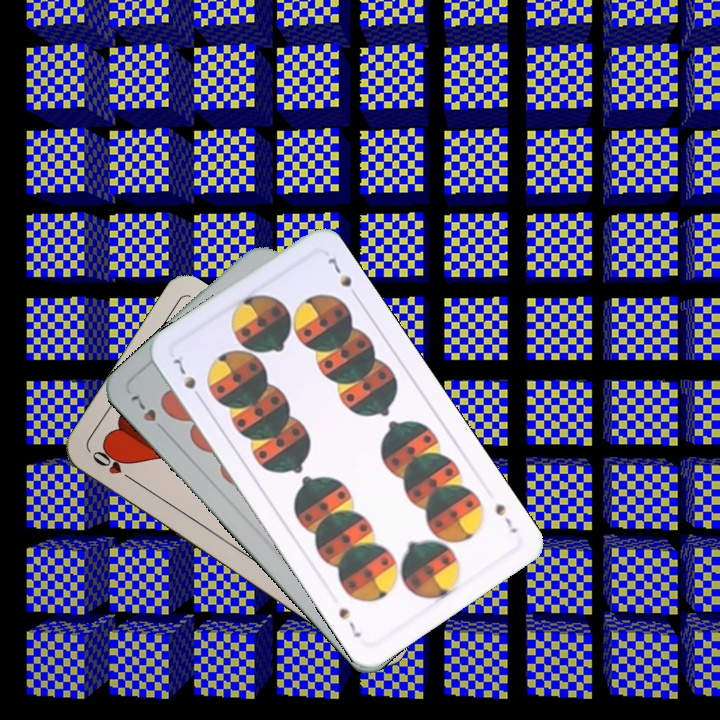H7: (125, 389, 170, 437)
HO: (88, 446, 139, 486)
S7: (169, 354, 206, 404), (491, 498, 521, 536)
